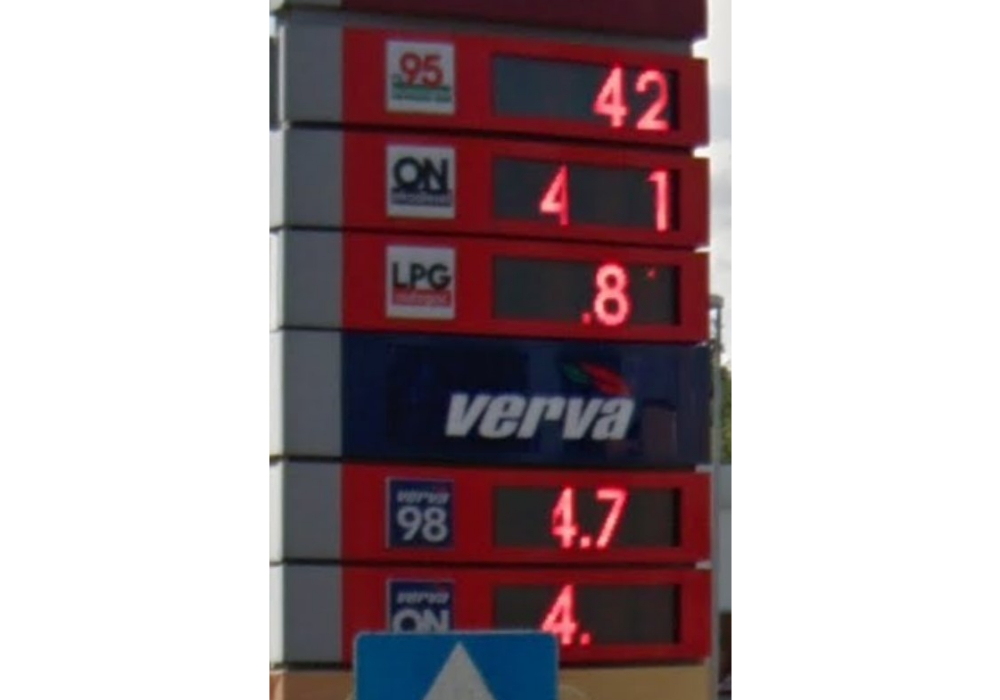LPG: (385, 243, 456, 322)
ON: (384, 142, 456, 221), (385, 577, 456, 643)
PB95: (383, 38, 457, 116)
PB98: (383, 473, 455, 552)
